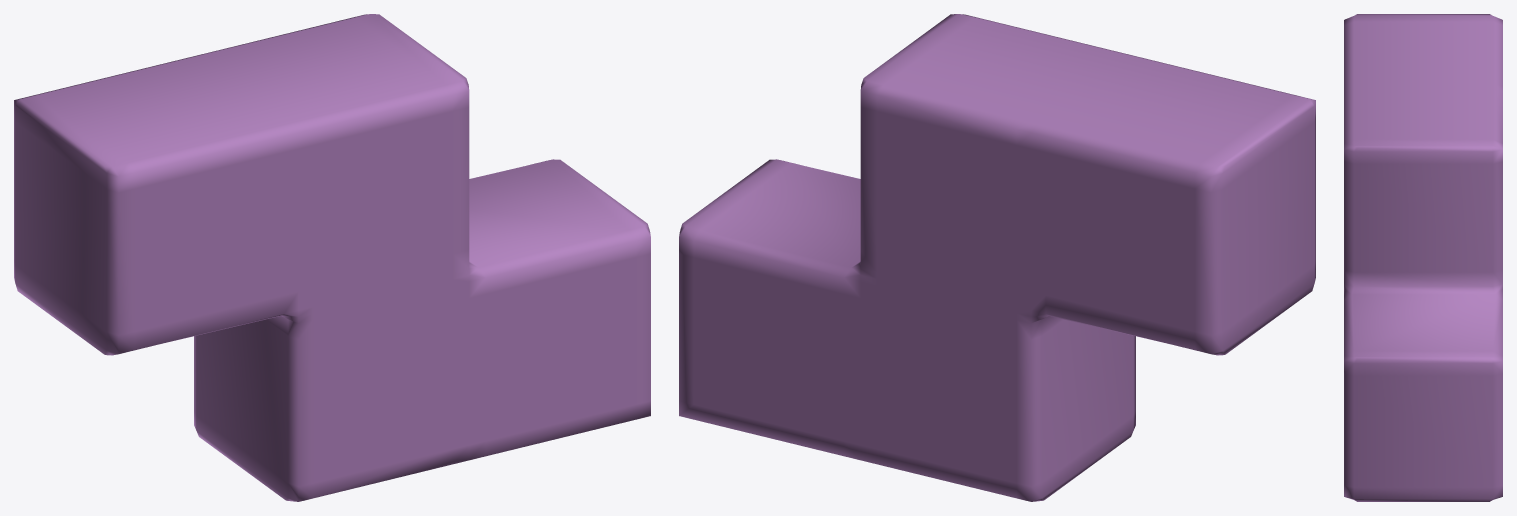
Rendered from ZTetris.obj.
3 views of the same model, side by side, from view 1: azimuth 30°, elevation 25°; view 2: azimuth 150°, elevation 25°; view 3: azimuth 270°, elevation 25° (orthographic). The views are drawn at different scales.
Visible parts, largest first — view 1: Cube_Cube_Material; view 2: Cube_Cube_Material; view 3: Cube_Cube_Material.
Boxes of the visible parts, x1,y1,x2,y2 form: Cube_Cube_Material: (14, 14, 650, 501); Cube_Cube_Material: (679, 14, 1315, 501); Cube_Cube_Material: (1344, 14, 1502, 501).
Size of the model in its own units: 3 by 2 by 1.
